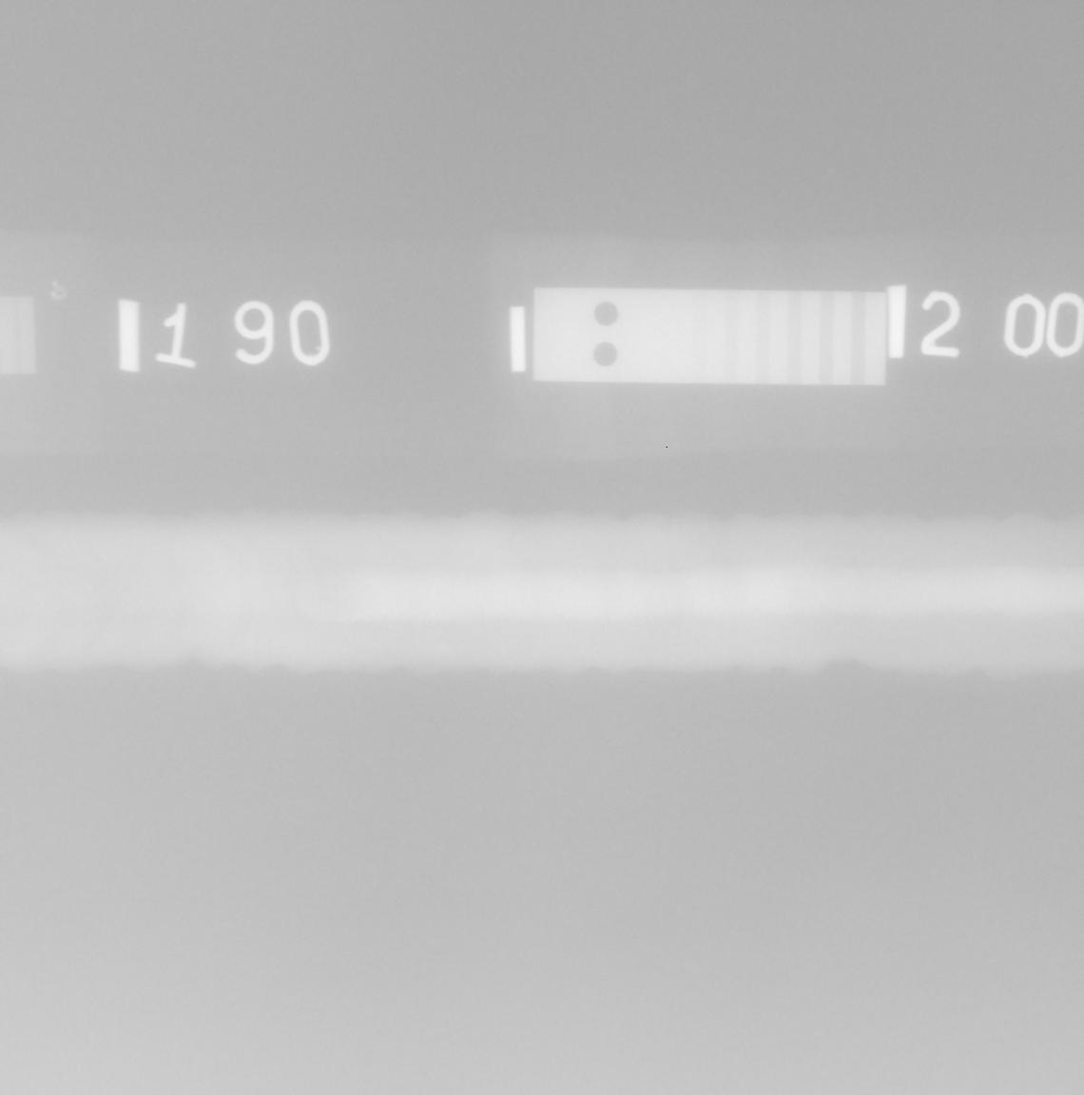Reference Standard 2: (533, 287, 887, 386)
